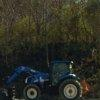Tractor: (12, 53, 89, 100)
